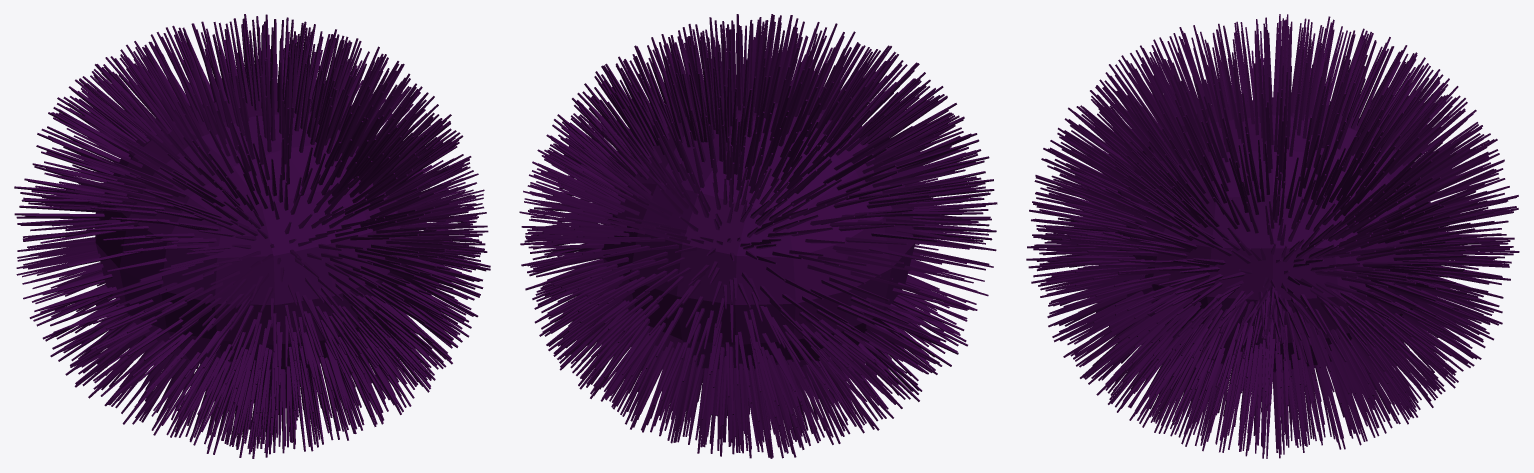
The model's file is ErizoN.glb.
The picture shows the model from 3 angles, left to right: view 1: azimuth 30°, elevation 25°; view 2: azimuth 150°, elevation 25°; view 3: azimuth 270°, elevation 25°; orthographic projection.
Parts seen in each view (by area): view 1: Seaurchin; view 2: Seaurchin; view 3: Seaurchin.
Part boxes in pixels (x1,y1,x2,y2): Seaurchin: (14, 14, 490, 458); Seaurchin: (519, 14, 997, 458); Seaurchin: (1026, 14, 1519, 458).
Size of the model in its own units: 1.06 by 0.9752 by 1.11.
